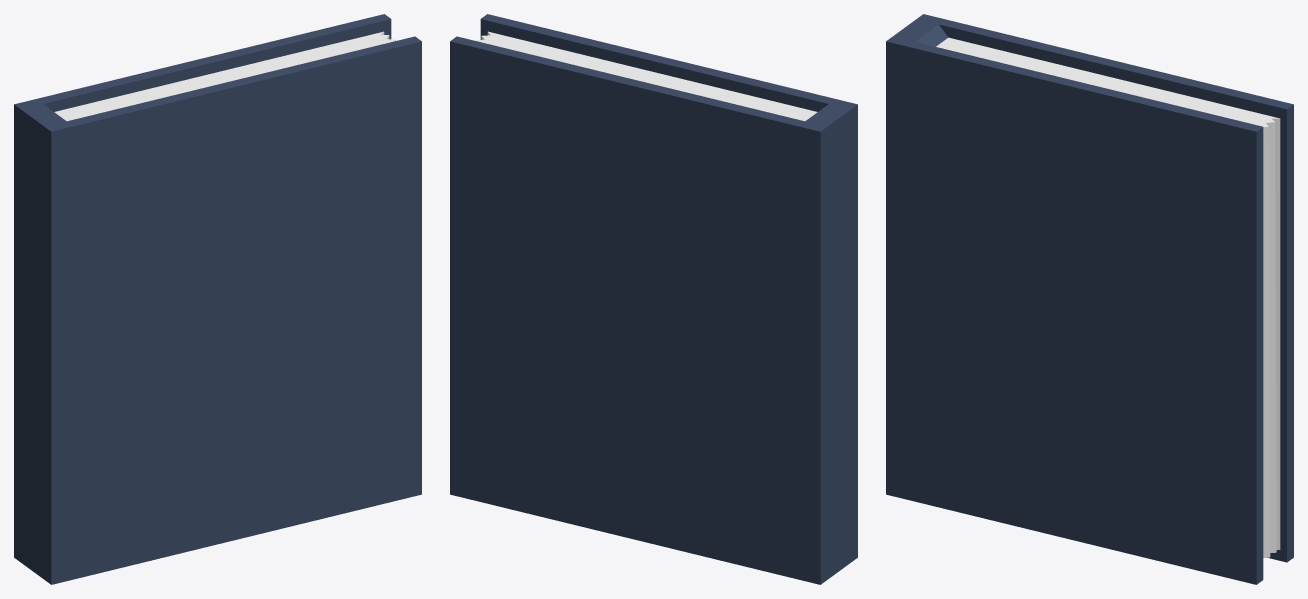
File: bookblue.fbx
3 views of the same model, side by side, from view 1: azimuth 30°, elevation 25°; view 2: azimuth 150°, elevation 25°; view 3: azimuth 330°, elevation 25° (orthographic).
Visible parts, largest first — view 1: Cube; view 2: Cube; view 3: Cube.
Boxes of the visible parts, <box> form: Cube: <box>14,14,421,584</box>; Cube: <box>450,14,857,584</box>; Cube: <box>886,14,1293,584</box>.
Bounding box in the file's own units: 98.91 × 116 × 17.31.
